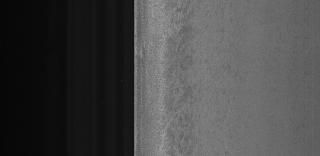silk spot: (157, 13, 205, 144)
